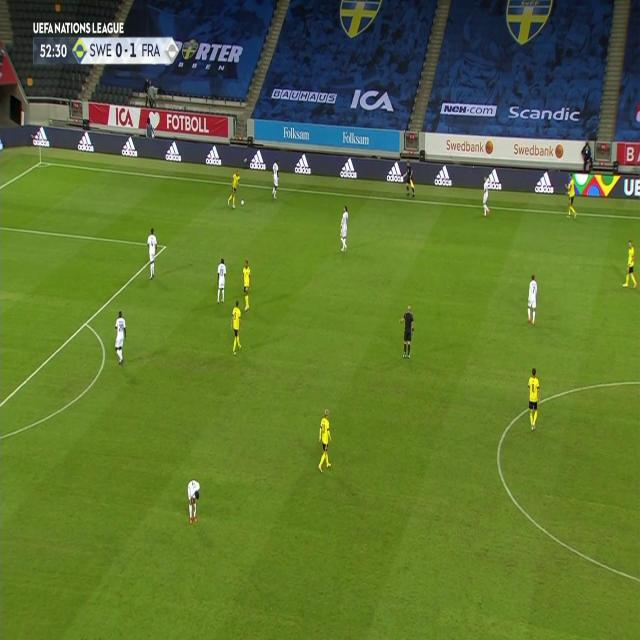ball: (240, 198, 244, 206)
player: (316, 406, 334, 474), (526, 365, 542, 431), (112, 308, 128, 366), (399, 303, 415, 360), (229, 298, 244, 354), (622, 239, 638, 288), (185, 476, 201, 524), (525, 272, 539, 325), (144, 226, 158, 279), (240, 259, 253, 312), (564, 172, 578, 220), (214, 256, 228, 304), (226, 169, 242, 208), (338, 204, 350, 253), (482, 173, 492, 217), (404, 162, 416, 198), (270, 159, 280, 200)
